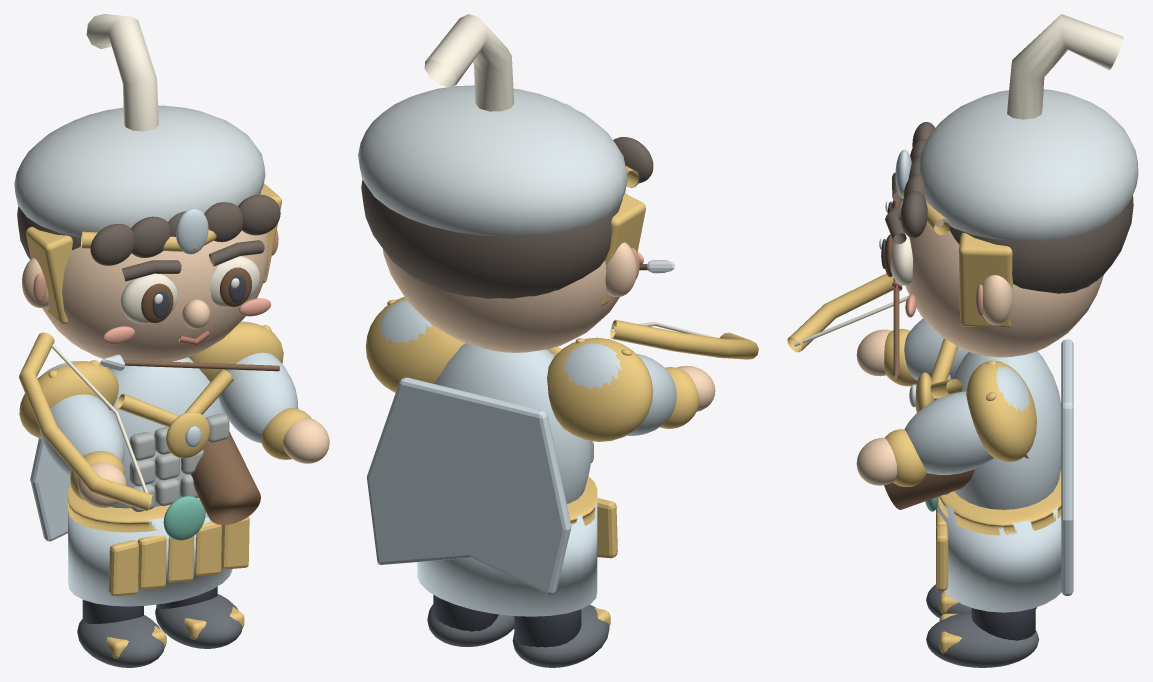
Rendered from gongsunzan.fbx.
The picture shows the model from 3 angles, left to right: view 1: azimuth 30°, elevation 25°; view 2: azimuth 150°, elevation 25°; view 3: azimuth 270°, elevation 25°; orthographic projection. The views are drawn at different scales.
Parts seen in each view (by area): view 1: helmet, face, robe_skirt, body, plume, sleeve, quiver, recurve_bow, sleeve.001, boot, boot.001, shoulder_gold.001 (+43 smaller); view 2: cape, helmet, hair_mass, face, robe_skirt, body, shoulder_gold.001, plume, shoulder_gold, recurve_bow, boot, leg (+12 smaller); view 3: helmet, face, robe_skirt, body, hair_mass, plume, sleeve, shoulder_gold, boot.001, cape, cheek_guard.001, belt (+20 smaller).
Boxes of the visible parts, box(x1,y1,x2,y2) form: helmet: box(14, 105, 265, 237); face: box(42, 230, 269, 361); robe_skirt: box(68, 505, 232, 606); body: box(108, 357, 225, 508); plume: box(86, 14, 158, 131); sleeve: box(218, 352, 298, 443); quiver: box(190, 431, 260, 524); recurve_bow: box(19, 332, 152, 511); sleeve.001: box(39, 394, 124, 476); boot: box(77, 615, 164, 667); boot.001: box(155, 594, 242, 648); shoulder_gold.001: box(19, 361, 118, 439); cape: box(366, 377, 571, 594); helmet: box(358, 85, 627, 236); hair_mass: box(361, 180, 622, 298); face: box(382, 248, 619, 352); robe_skirt: box(417, 499, 597, 616); body: box(435, 343, 592, 503); shoulder_gold.001: box(547, 337, 653, 441); plume: box(424, 14, 514, 111); shoulder_gold: box(366, 296, 465, 392); recurve_bow: box(610, 319, 758, 359); boot: box(512, 605, 609, 667); leg: box(514, 609, 581, 647); helmet: box(918, 89, 1138, 241); face: box(900, 219, 1103, 357); robe_skirt: box(937, 497, 1061, 612); body: box(952, 351, 1061, 509); hair_mass: box(949, 196, 1133, 293); plume: box(1007, 14, 1123, 119); sleeve: box(904, 391, 994, 474); shoulder_gold: box(966, 361, 1036, 462); boot.001: box(926, 612, 1038, 667); cape: box(1061, 339, 1073, 595); cheek_guard.001: box(958, 232, 1012, 327); belt: box(938, 469, 1061, 535).
Bounding box in the file's own units: 1.38 × 2.81 × 1.43.
